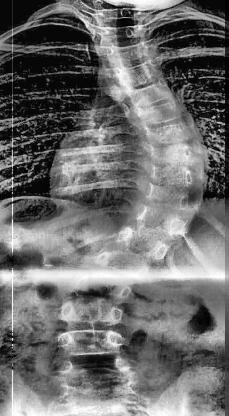Vertebrae: (68, 266, 136, 302), (109, 223, 170, 262), (132, 202, 194, 240), (92, 243, 152, 279), (57, 296, 124, 328), (92, 37, 160, 68), (56, 327, 126, 357), (144, 178, 204, 212), (116, 60, 168, 90), (92, 23, 154, 47), (138, 96, 184, 128), (148, 143, 204, 169), (127, 79, 175, 109), (150, 161, 204, 187), (144, 121, 194, 148)
